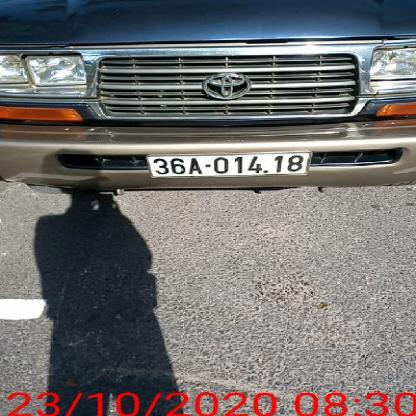biensoxe: (147, 151, 318, 181)
